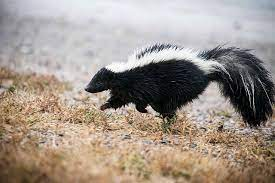skunk: (84, 45, 269, 125)
